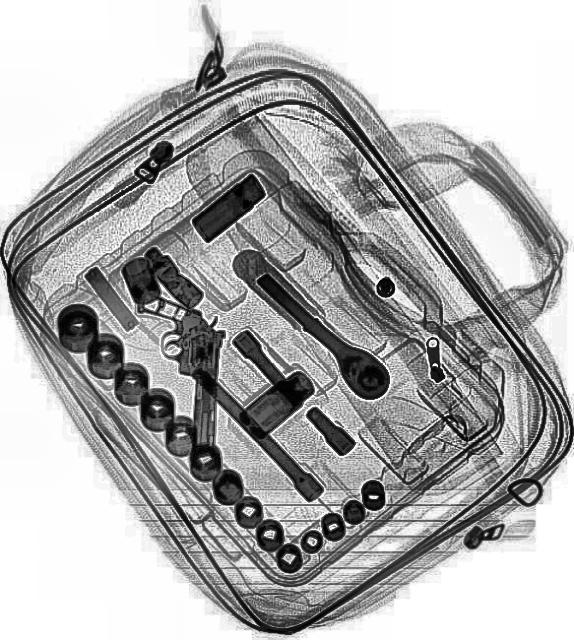Gun: (126, 291, 223, 455)
